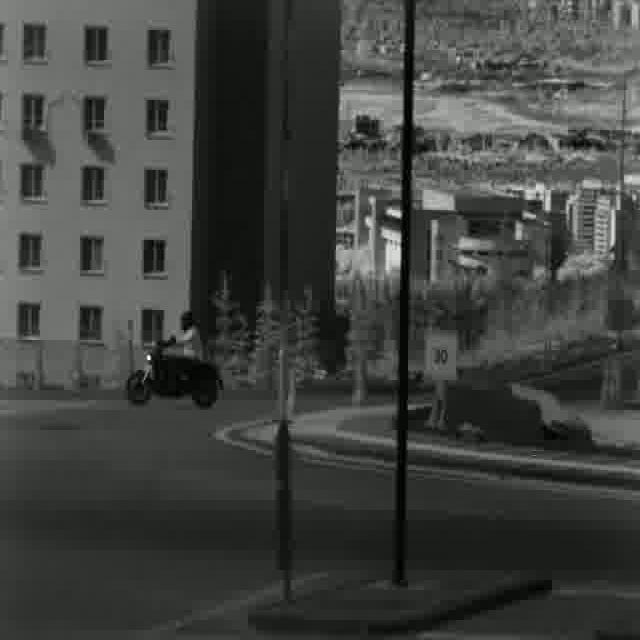Motorcycle: (123, 299, 223, 410)
